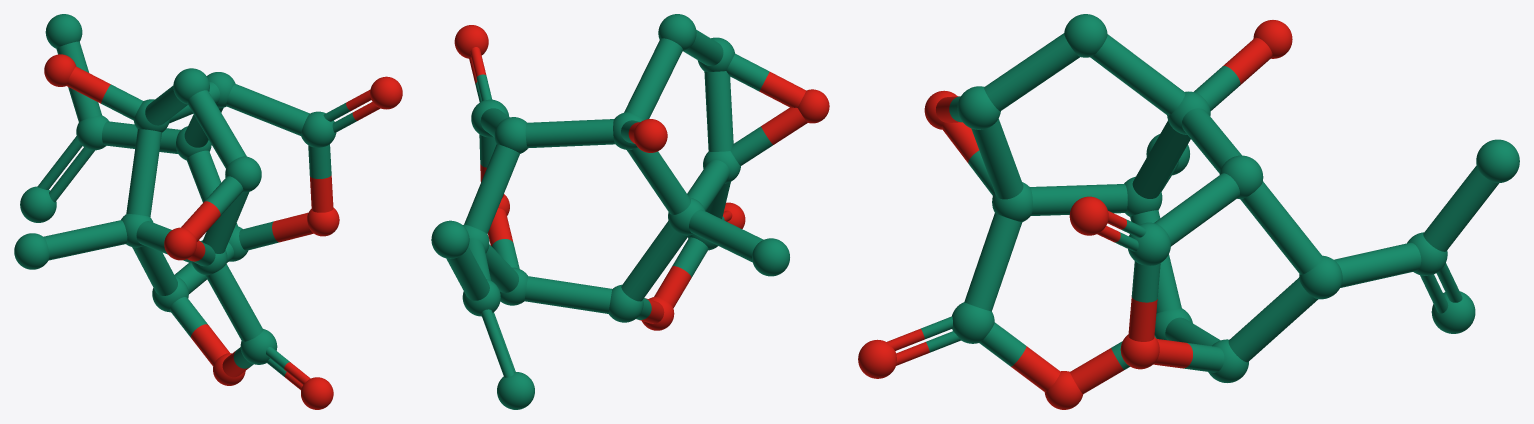
File: picrotoxin-structure.glb
3 views of the same model, side by side, from view 1: azimuth 30°, elevation 25°; view 2: azimuth 150°, elevation 25°; view 3: azimuth 270°, elevation 25° (orthographic). The views are drawn at different scales.
Bounding box in the file's own units: 5.63 × 4.83 × 7.72.
